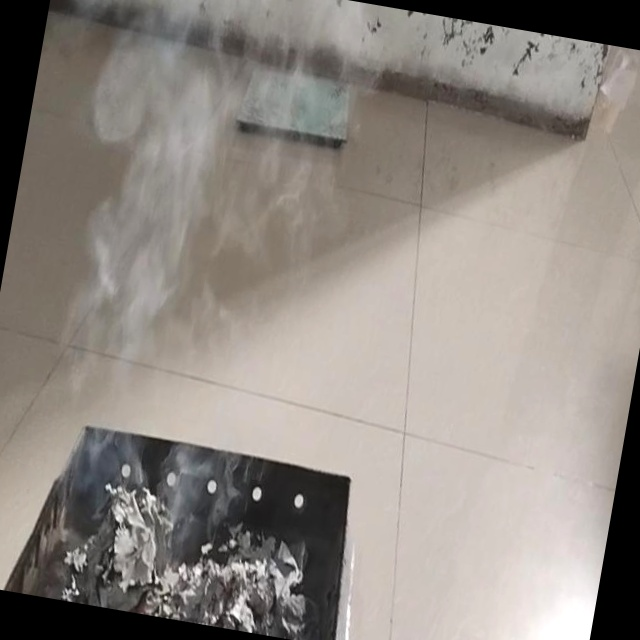smoke: (32, 0, 303, 515)
